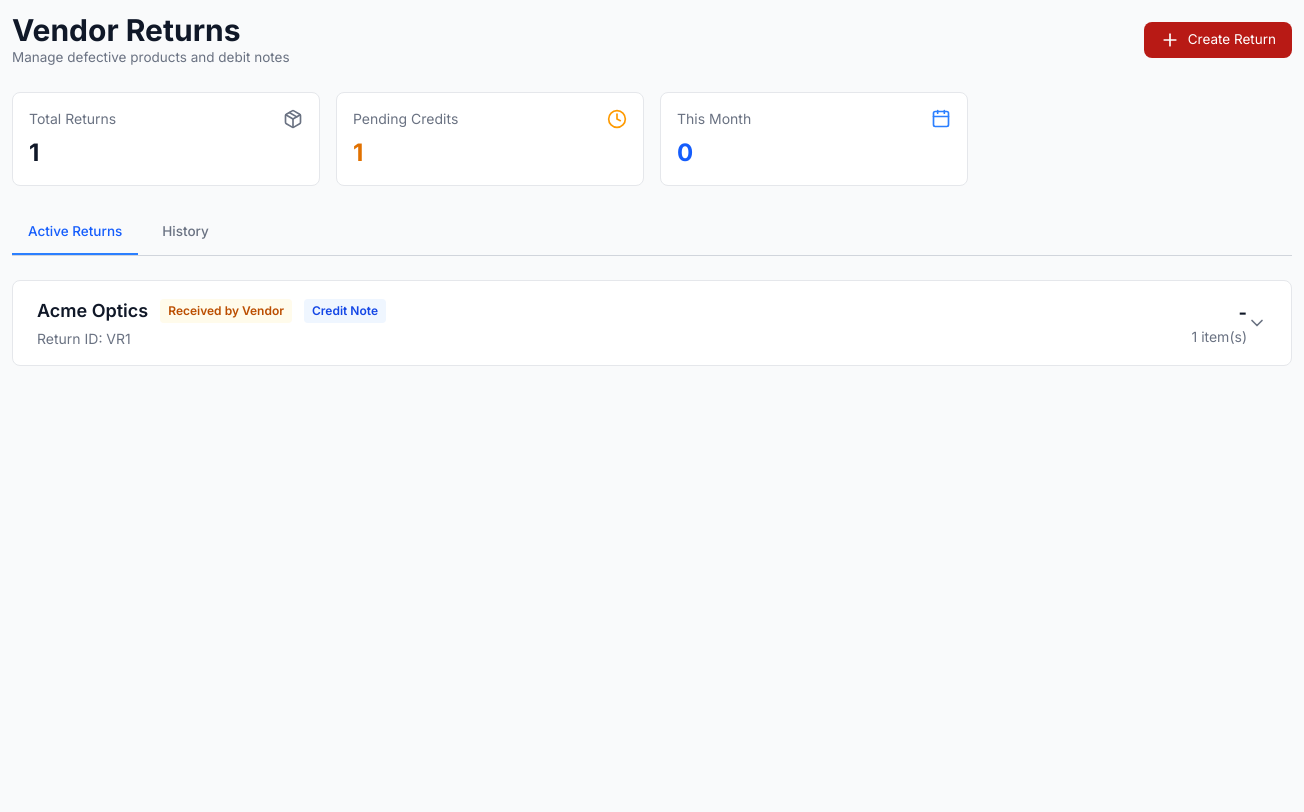
VendorReturns - a manager reads the return, not the supplier credit › STORE_MANAGER: no Credit Value, no return value, no credit note, no debit-note amount, no Print / Tally
Click the heading "Acme Optics".
click(93, 311)  # box [37,297,148,325]
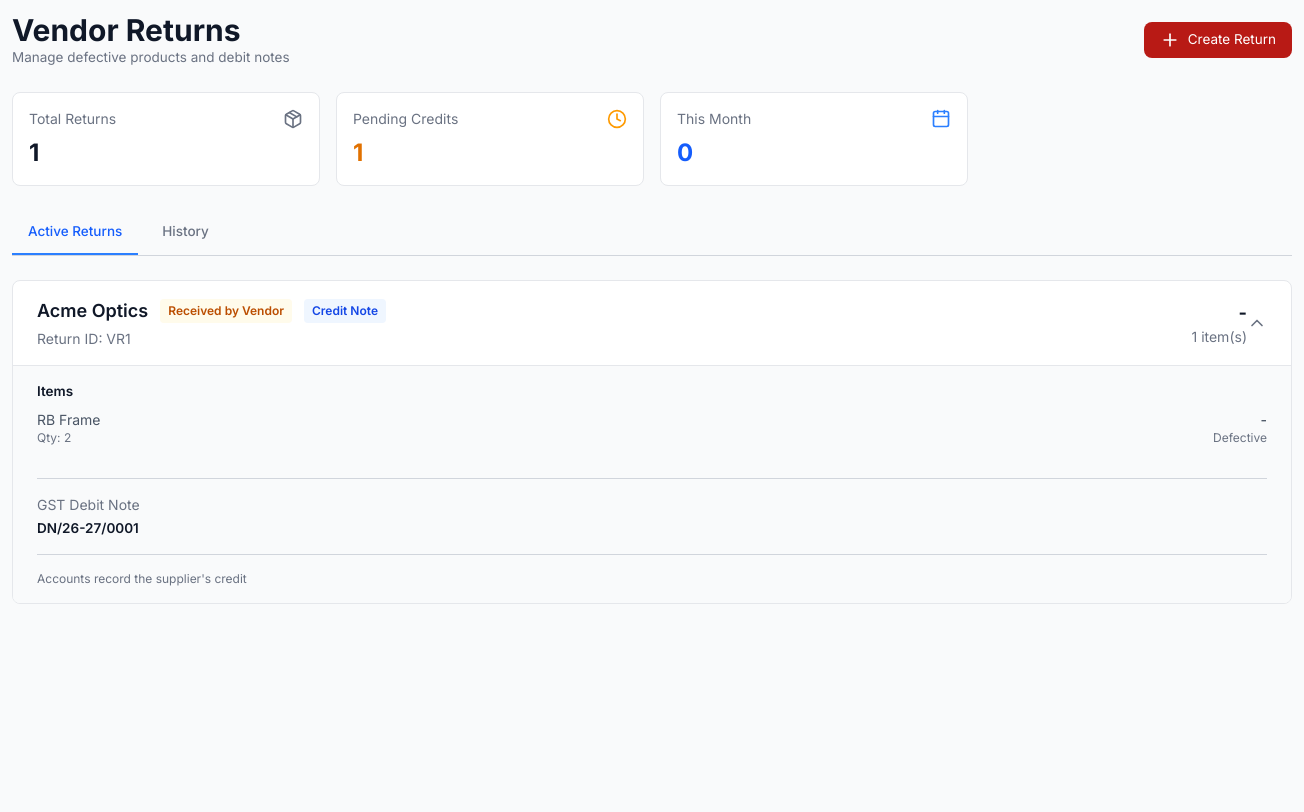
Expected: the text "DN/26-27/0001" is shown, [37,519,140,538]
Expected: the text "RB Frame" is shown, [37,410,100,430]
Expected: the text "Qty: 2" is shown, [37,430,71,445]
